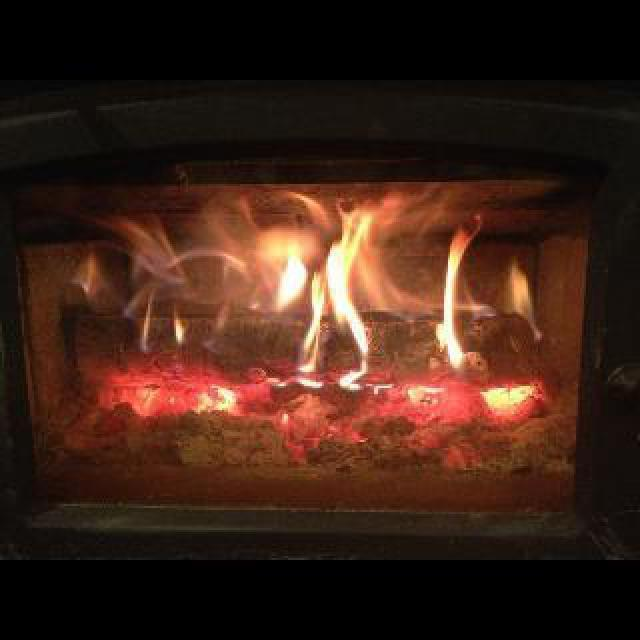Fire: (82, 180, 552, 454)
